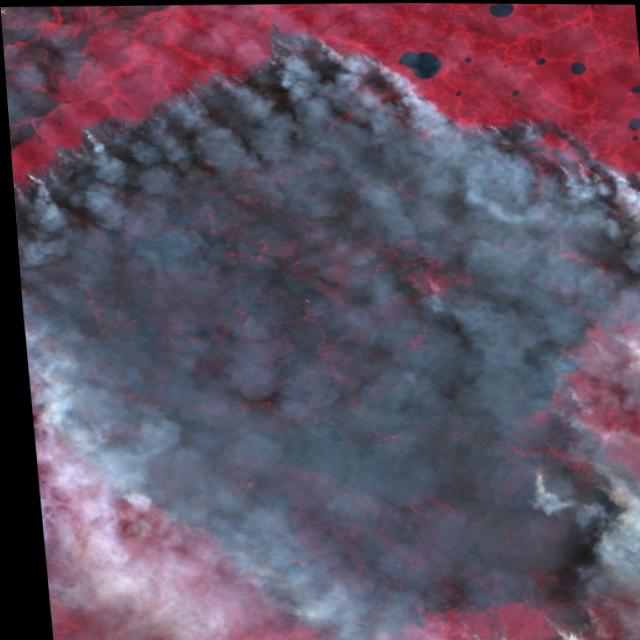fire: (3, 14, 382, 196), (388, 90, 640, 210), (506, 377, 640, 518)
